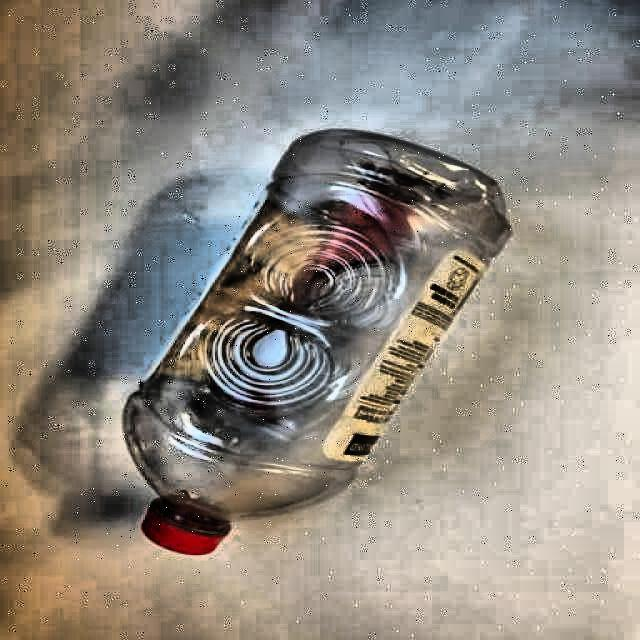plastic: (124, 130, 510, 553)
